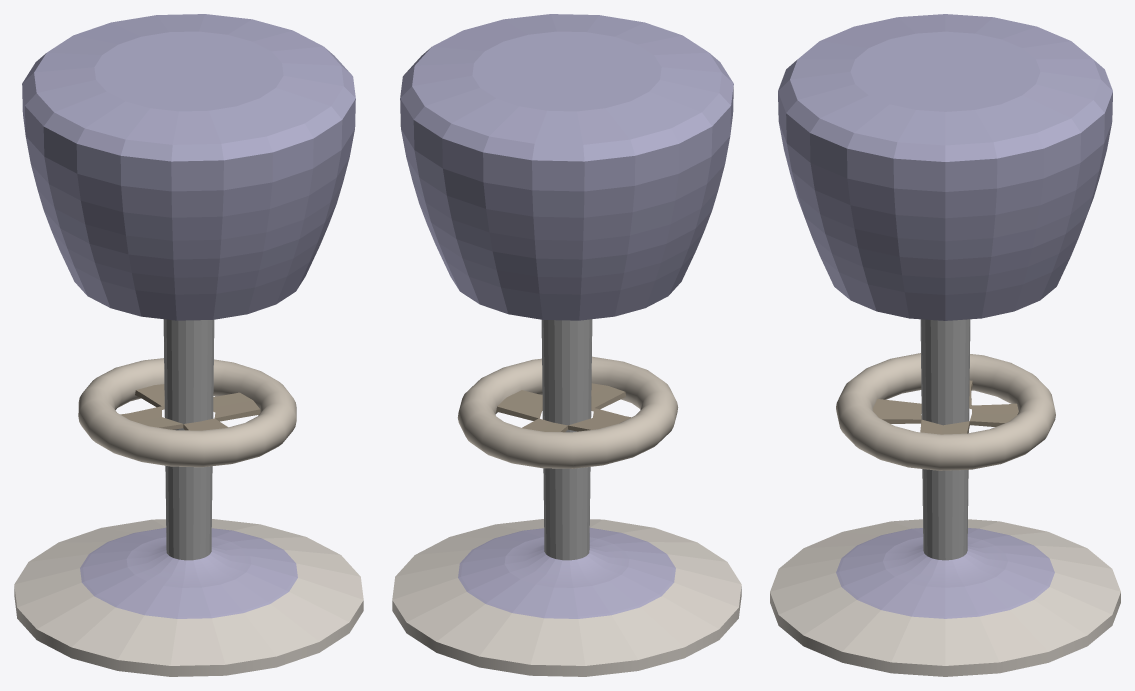
File: silla.fbx
The picture shows the model from 3 angles, left to right: view 1: azimuth 30°, elevation 25°; view 2: azimuth 150°, elevation 25°; view 3: azimuth 270°, elevation 25°; orthographic projection.
Parts seen in each view (by area): view 1: pasted__pasted__pasted__pasted__pasted__sillatodo1; view 2: pasted__pasted__pasted__pasted__pasted__sillatodo1; view 3: pasted__pasted__pasted__pasted__pasted__sillatodo1.
Part boxes in pixels (left/top/right/bottom): pasted__pasted__pasted__pasted__pasted__sillatodo1: left=14, top=14, right=363, bottom=676; pasted__pasted__pasted__pasted__pasted__sillatodo1: left=392, top=14, right=741, bottom=676; pasted__pasted__pasted__pasted__pasted__sillatodo1: left=770, top=14, right=1120, bottom=676.
Size of the model in its own units: 0.5285 by 0.8823 by 0.5285.
